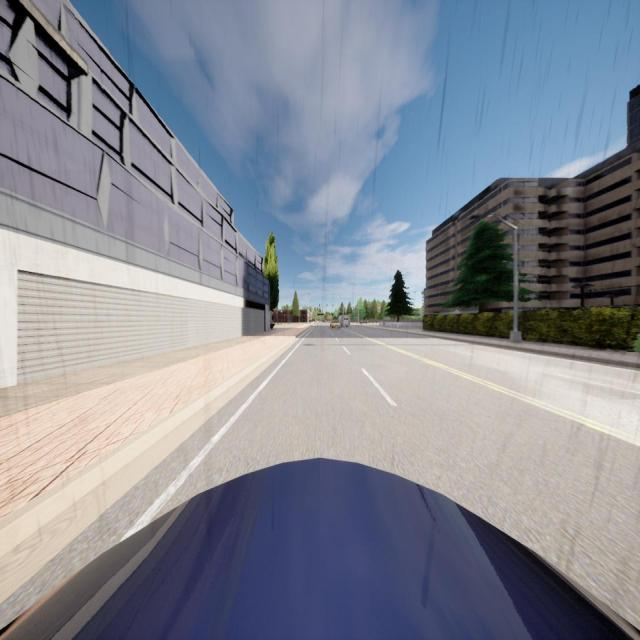Vehicle: (0, 456, 638, 640), (338, 314, 350, 328), (330, 319, 341, 329)
